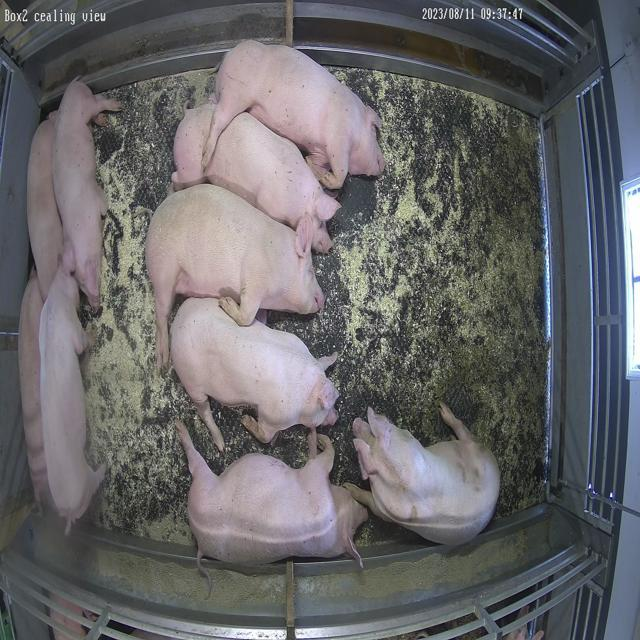Dirt: (446, 92, 545, 274), (436, 336, 499, 448)
Pig: (145, 184, 325, 368), (176, 422, 368, 566), (208, 40, 385, 188), (172, 103, 341, 252), (39, 269, 104, 530), (53, 79, 121, 308), (18, 270, 49, 504), (27, 111, 63, 300)
